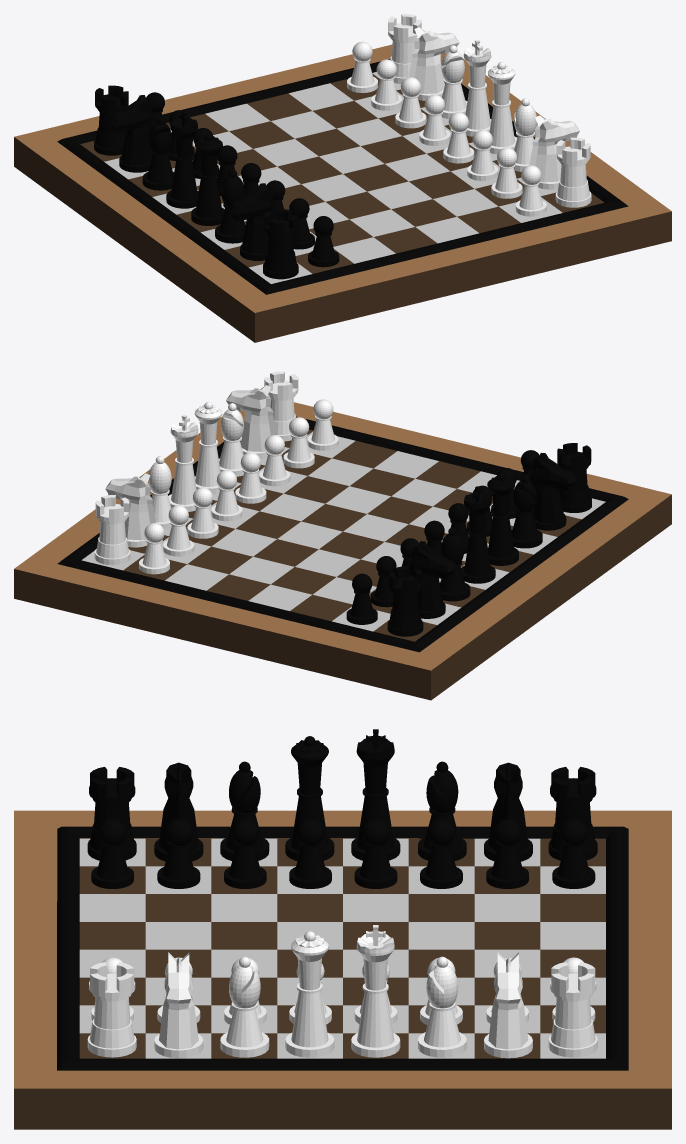
The model's file is complete_chessboard.fbx.
3 views of the same model, one above another, from view 1: azimuth 30°, elevation 25°; view 2: azimuth 150°, elevation 25°; view 3: azimuth 270°, elevation 25° (orthographic). The views are drawn at different scales.
Parts seen in each view (by area): view 1: board, Cylinder.001, Cube.005, Cube.004, Cube.003, Base.028, Base.001, Base.024, Cube.001, Base.027, Base.004, Base.003 (+18 smaller); view 2: board, Cylinder.001, Cube.003, Cube.001, Base.028, Base.023, Base.014, Cube.005, Cube.004, Base.027, Base.004, Base.003 (+18 smaller); view 3: board, Cylinder.001, Base.004, Base.003, Base.001, Base.014, Cube.001, Cube.004, Base.002, Base.006, Base.028, Base.027 (+14 smaller).
Part boxes in pixels (x1,y1,x2,y2): board: [14, 44, 671, 342]; Cylinder.001: [57, 59, 628, 294]; Cube.005: [107, 95, 155, 172]; Cube.004: [409, 27, 459, 100]; Cube.003: [228, 183, 277, 260]; Base.028: [166, 111, 198, 208]; Base.001: [555, 137, 591, 207]; Base.024: [263, 209, 298, 279]; Cube.001: [529, 115, 579, 189]; Base.027: [191, 133, 224, 225]; Base.004: [463, 39, 491, 136]; Base.003: [488, 62, 517, 154]; board: [14, 402, 671, 700]; Cylinder.001: [57, 416, 628, 652]; Cube.003: [530, 453, 577, 530]; Cube.001: [226, 385, 276, 458]; Base.028: [461, 486, 495, 583]; Base.023: [387, 566, 423, 636]; Base.014: [94, 495, 130, 565]; Cube.005: [409, 541, 457, 618]; Cube.004: [105, 473, 155, 547]; Base.027: [487, 473, 518, 565]; Base.004: [168, 414, 198, 511]; Base.003: [194, 402, 222, 494]; board: [14, 810, 671, 1129]; Cylinder.001: [57, 826, 628, 1070]; Base.004: [351, 925, 400, 1057]; Base.003: [285, 931, 334, 1057]; Base.001: [87, 962, 136, 1057]; Base.014: [548, 962, 597, 1057]; Cube.001: [154, 952, 203, 1058]; Cube.004: [484, 952, 532, 1058]; Base.002: [220, 956, 269, 1057]; Base.006: [418, 956, 466, 1057]; Base.028: [351, 729, 400, 860]; Base.027: [285, 736, 334, 860].
Size of the model in its own units: 2681 by 729 by 2681.
